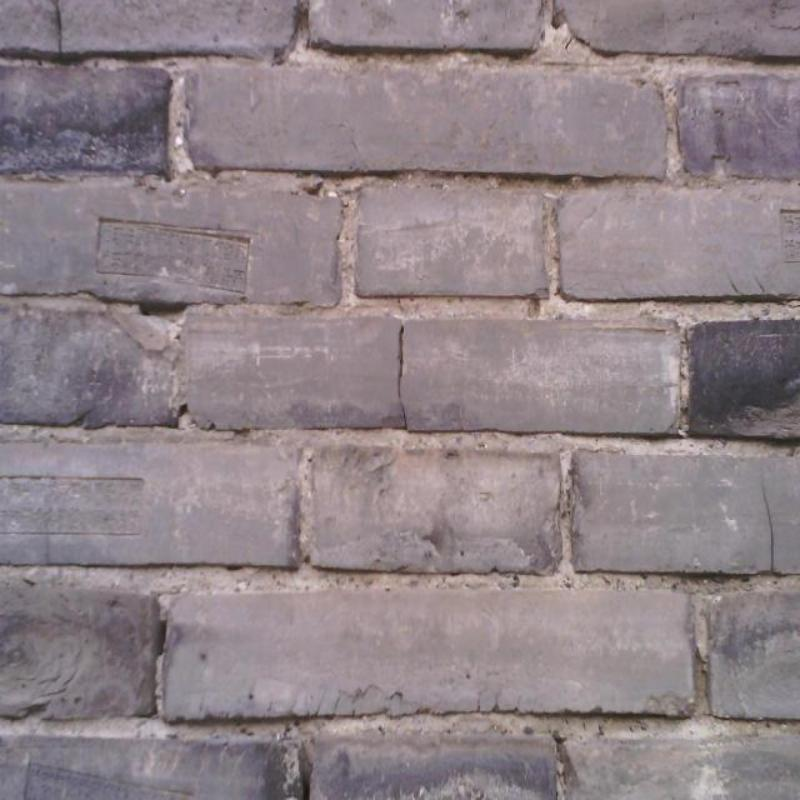crack: (763, 476, 774, 574), (397, 325, 406, 430), (52, 1, 62, 54), (141, 306, 182, 318), (301, 776, 311, 799), (159, 622, 165, 654), (179, 403, 188, 415)
